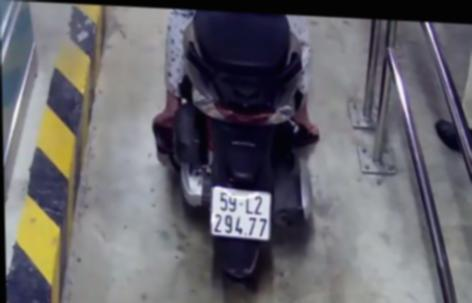License_Plate: (206, 179, 274, 245)
